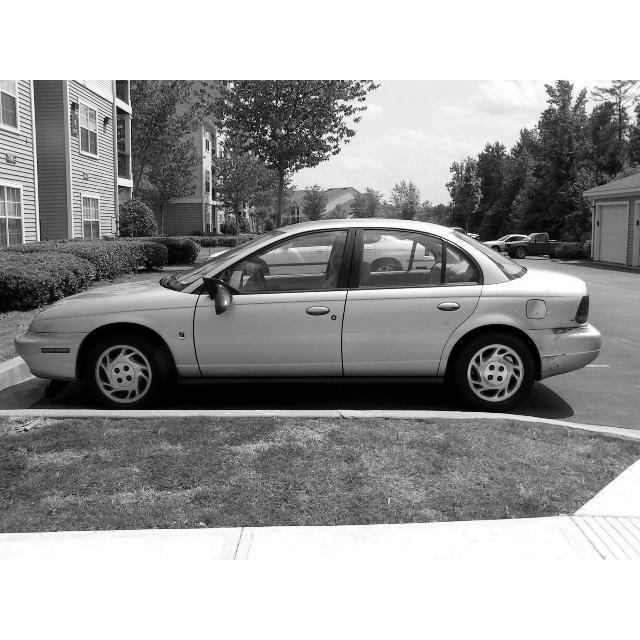quaterpanel-dent: (475, 290, 593, 375)
